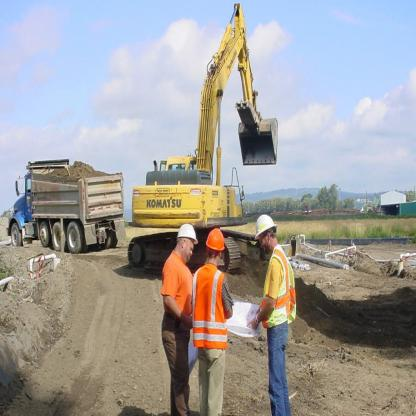dump_truck: (4, 150, 130, 260)
excavator: (126, 1, 283, 254)
person: (249, 210, 310, 415), (192, 220, 240, 415), (154, 214, 200, 416)
